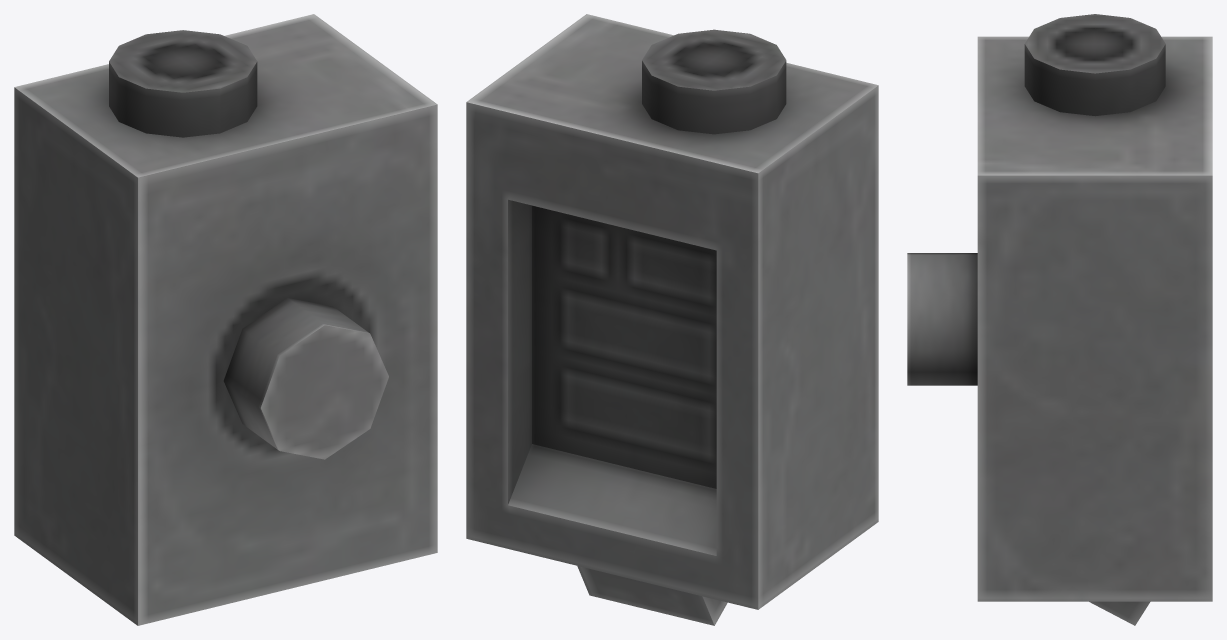
File: 1mv_sensor_gravimeter_srf_1_compact.obj
3 renders of one model, left to right at view 1: azimuth 30°, elevation 25°; view 2: azimuth 150°, elevation 25°; view 3: azimuth 270°, elevation 25°, orthographic. The views are drawn at different scales.
Visible parts, largest first — view 1: mesh1; view 2: mesh1; view 3: mesh1.
Part boxes in pixels (x1,y1,x2,y2): mesh1: (14, 14, 437, 625); mesh1: (466, 14, 878, 625); mesh1: (907, 14, 1212, 625).
Size of the model in its own units: 0.175 by 0.3125 by 0.1625.
Materials: 1 (1 with a texture image).
